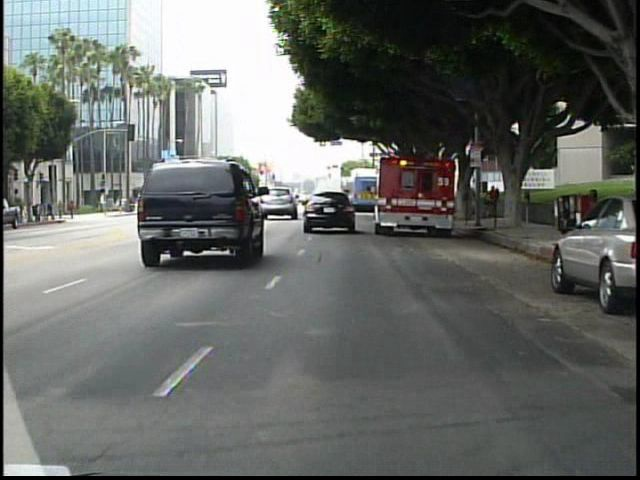person: (485, 184, 500, 220), (67, 196, 80, 222), (56, 196, 67, 220)
